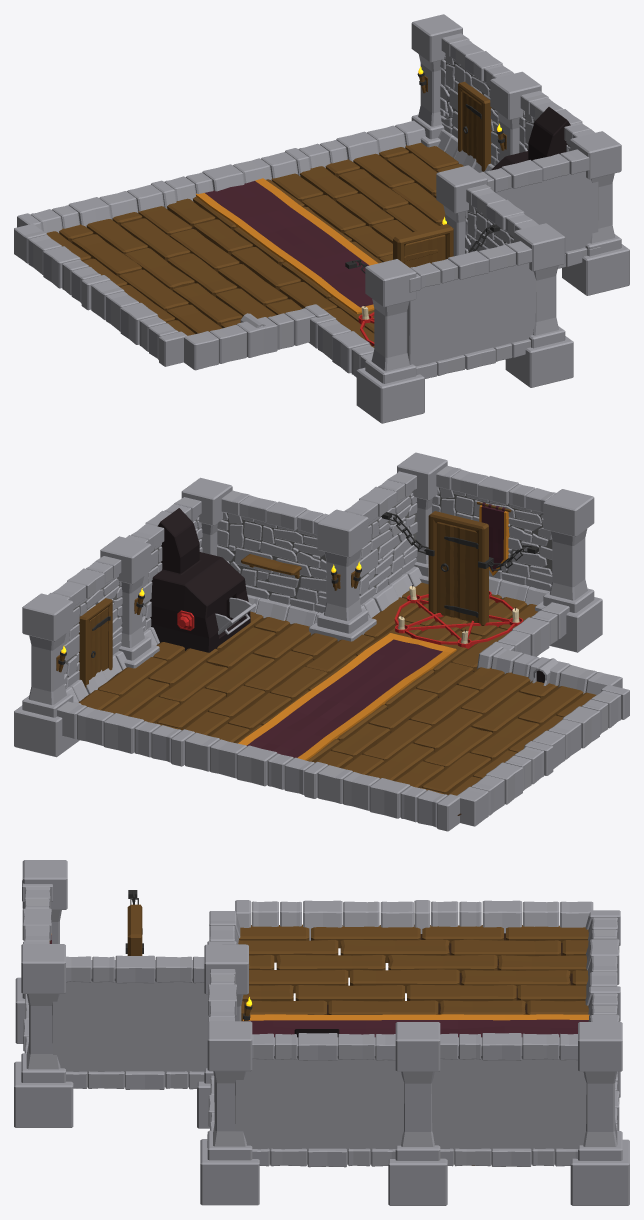
Rendered from RoomGrouped.fbx.
3 views of the same model, one above another, from view 1: azimuth 30°, elevation 25°; view 2: azimuth 150°, elevation 25°; view 3: azimuth 270°, elevation 25° (orthographic). The views are drawn at different scales.
Parts seen in each view (by area): view 1: Floor, Wall, Door, Machine; view 2: Floor, Wall, Machine, Door; view 3: Wall, Floor, Door.
Part boxes in pixels (<box>): Floor: <box>14,120,463,377</box>; Wall: <box>345,14,629,423</box>; Door: <box>393,224,453,267</box>; Machine: <box>490,107,570,170</box>; Floor: <box>57,582,629,831</box>; Wall: <box>14,452,602,757</box>; Machine: <box>150,508,256,652</box>; Door: <box>428,511,488,625</box>; Wall: <box>14,860,629,1205</box>; Floor: <box>207,900,620,1130</box>; Door: <box>127,904,142,955</box>.
Size of the model in its own units: 2982 by 894 by 3032.
